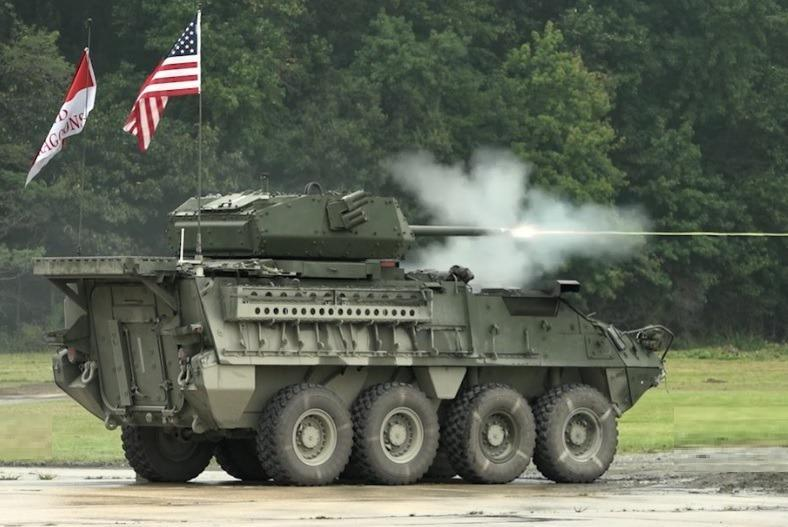MIL_IFV: (38, 181, 676, 486)
